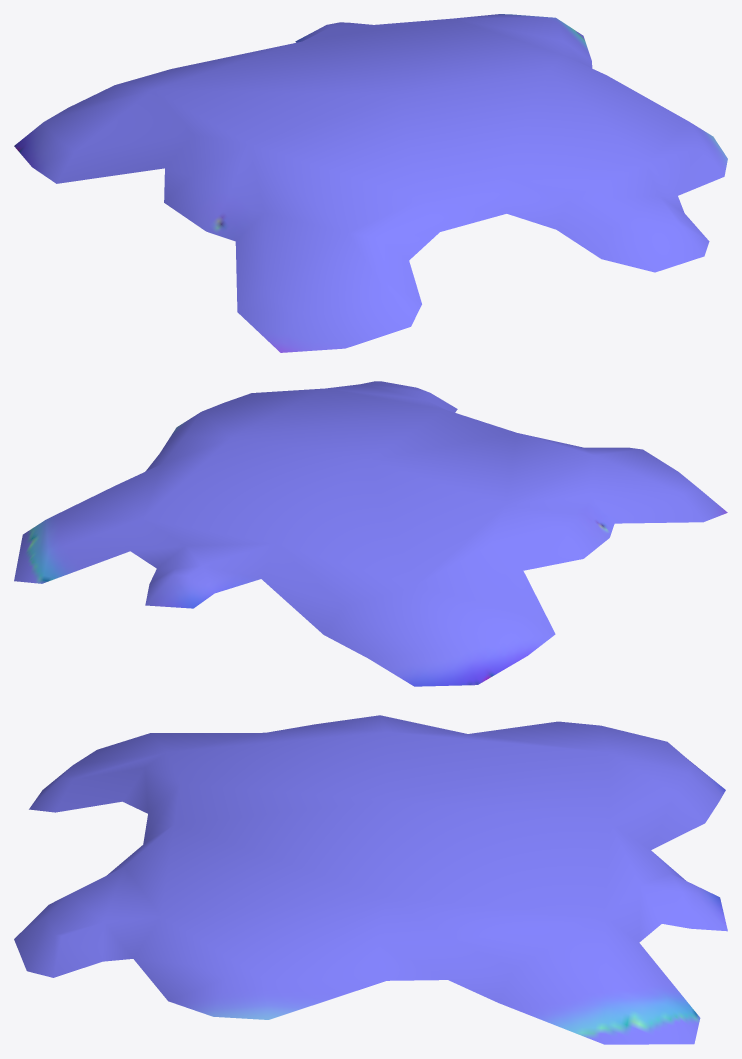
Rendered from p_hvs_quest_ballooncrate_balloon_dissolve_smallpiece01.fbx.
3 renders of one model, top to bottom at view 1: azimuth 30°, elevation 25°; view 2: azimuth 150°, elevation 25°; view 3: azimuth 270°, elevation 25°, orthographic. The views are drawn at different scales.
Visible parts, largest first — view 1: hvs_quest_ballooncrate_balloon_pose2.001; view 2: hvs_quest_ballooncrate_balloon_pose2.001; view 3: hvs_quest_ballooncrate_balloon_pose2.001.
Boxes of the visible parts, x1,y1,x2,y2 form: hvs_quest_ballooncrate_balloon_pose2.001: (14, 14, 727, 352); hvs_quest_ballooncrate_balloon_pose2.001: (14, 381, 727, 686); hvs_quest_ballooncrate_balloon_pose2.001: (14, 715, 727, 1044).
Size of the model in its own units: 5.01 by 0.8225 by 4.95.
